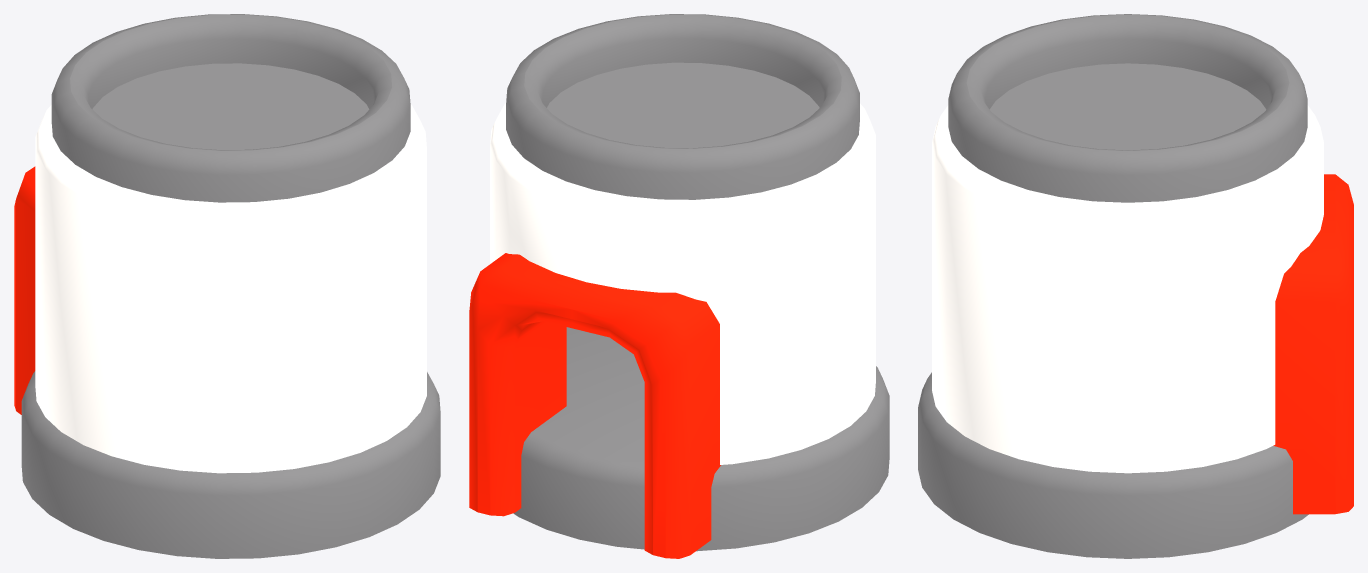
File: Lv2-R-Factory.fbx
The picture shows the model from 3 angles, left to right: view 1: azimuth 30°, elevation 25°; view 2: azimuth 150°, elevation 25°; view 3: azimuth 270°, elevation 25°; orthographic projection.
Parts seen in each view (by area): view 1: Lv2-R-Factory; view 2: Lv2-R-Factory; view 3: Lv2-R-Factory.
Boxes of the visible parts, x1=… form: Lv2-R-Factory: x1=14, y1=14, x2=440, y2=558; Lv2-R-Factory: x1=469, y1=14, x2=889, y2=558; Lv2-R-Factory: x1=918, y1=14, x2=1353, y2=558.
Size of the model in its own units: 2.29 by 2.34 by 2.38.
